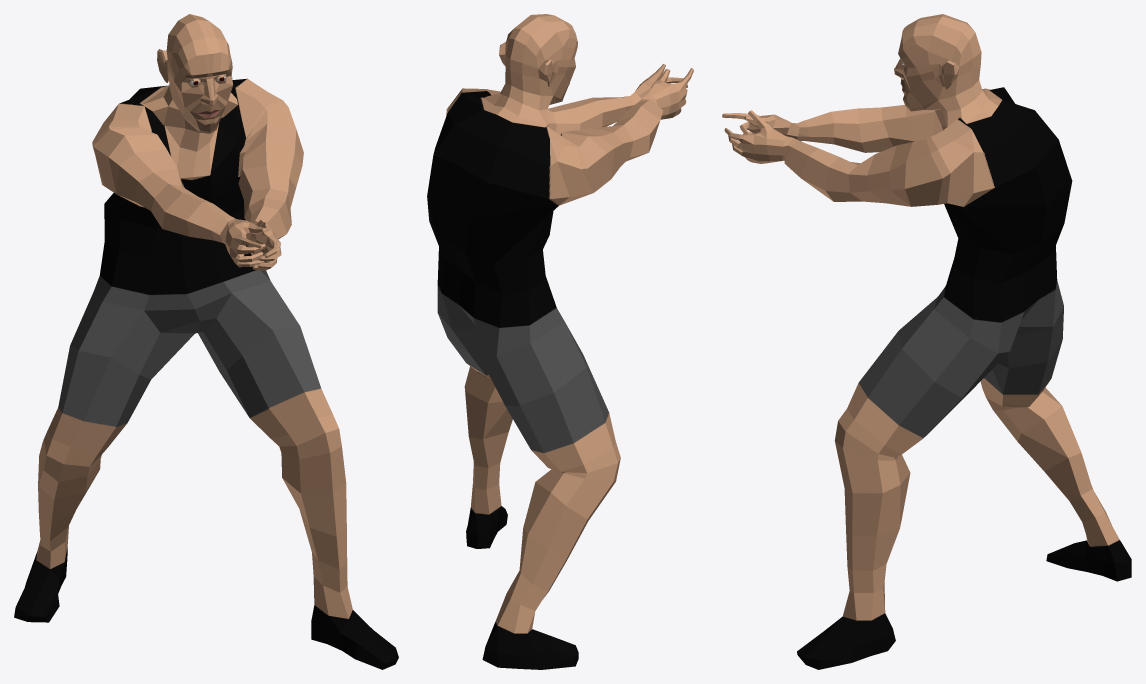
Rendered from PlayerShoot(27).obj.
3 renders of one model, left to right at view 1: azimuth 30°, elevation 25°; view 2: azimuth 150°, elevation 25°; view 3: azimuth 270°, elevation 25°, orthographic. The views are drawn at different scales.
Visible parts, largest first — view 1: Plane002; view 2: Plane002; view 3: Plane002.
Boxes of the visible parts, x1=… form: Plane002: x1=14, y1=14, x2=398, y2=669; Plane002: x1=427, y1=14, x2=693, y2=669; Plane002: x1=722, y1=14, x2=1131, y2=669.
Size of the model in its own units: 713 by 1664 by 1046.
